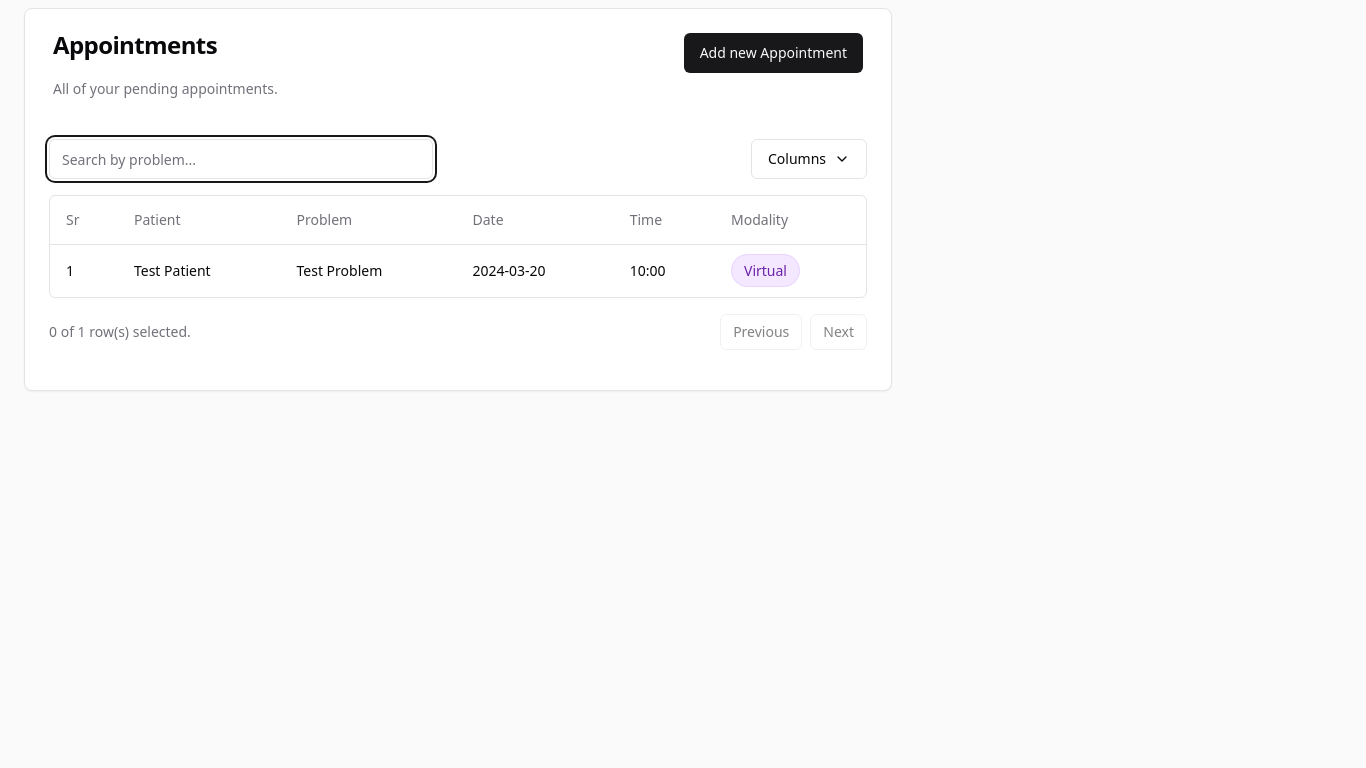
Scenario: Integración de Telemedicina › debería cargar correctamente el componente de citas con opciones de telemedicina
The image size is (1366, 768).
Expected: the text "Test Patient" is shown, [118,244,280,296]
Expected: the text "Test Problem" is shown, [280,244,456,296]
# Hacer clic en la fila de la cita
What coordinates should you click on to do the following:
click the text "Test Patient"
I would click on:
 (172, 270)
Its box is [50,244,866,296].
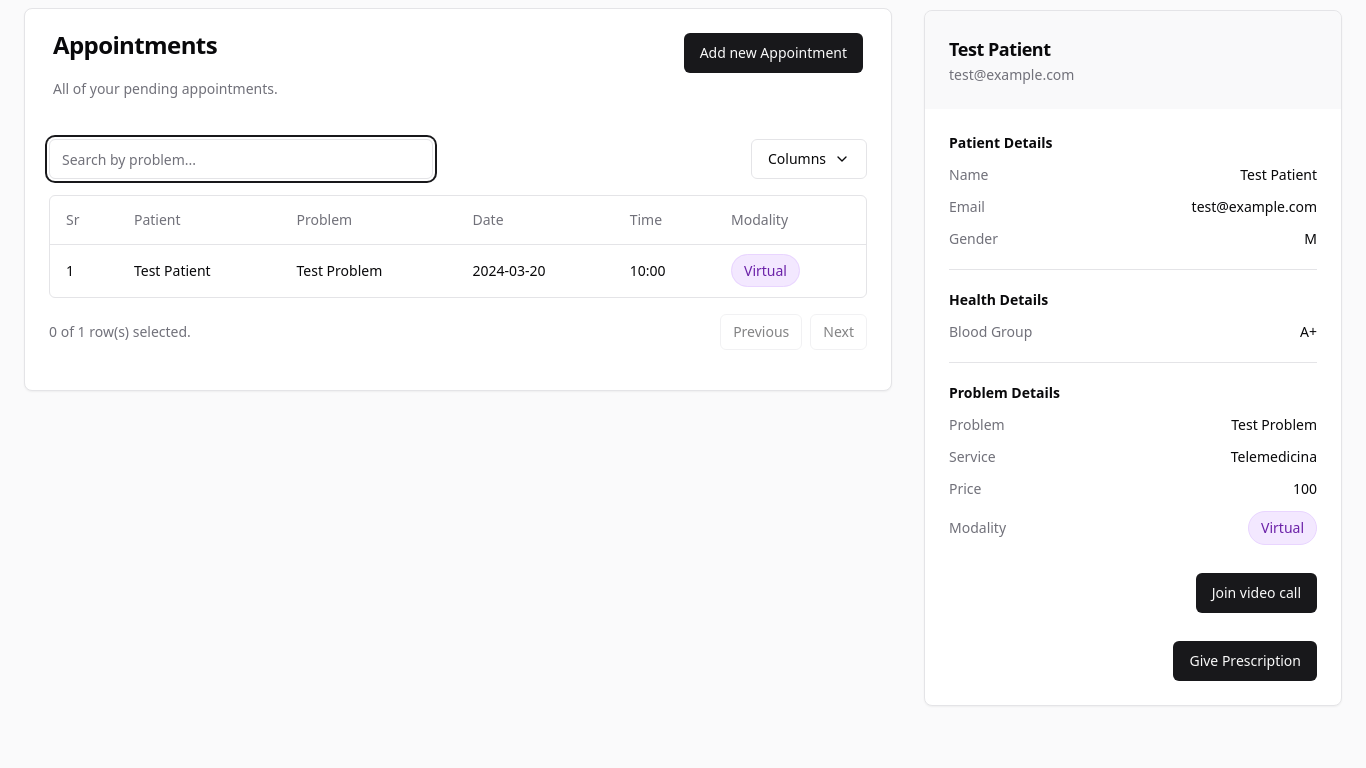
Now the text "Patient Details" is shown, box [949,133,1052,152]
Now the text "Problem Details" is shown, box [949,383,1060,402]
Now the button "Join video call" is shown, box [1196,573,1317,613]
